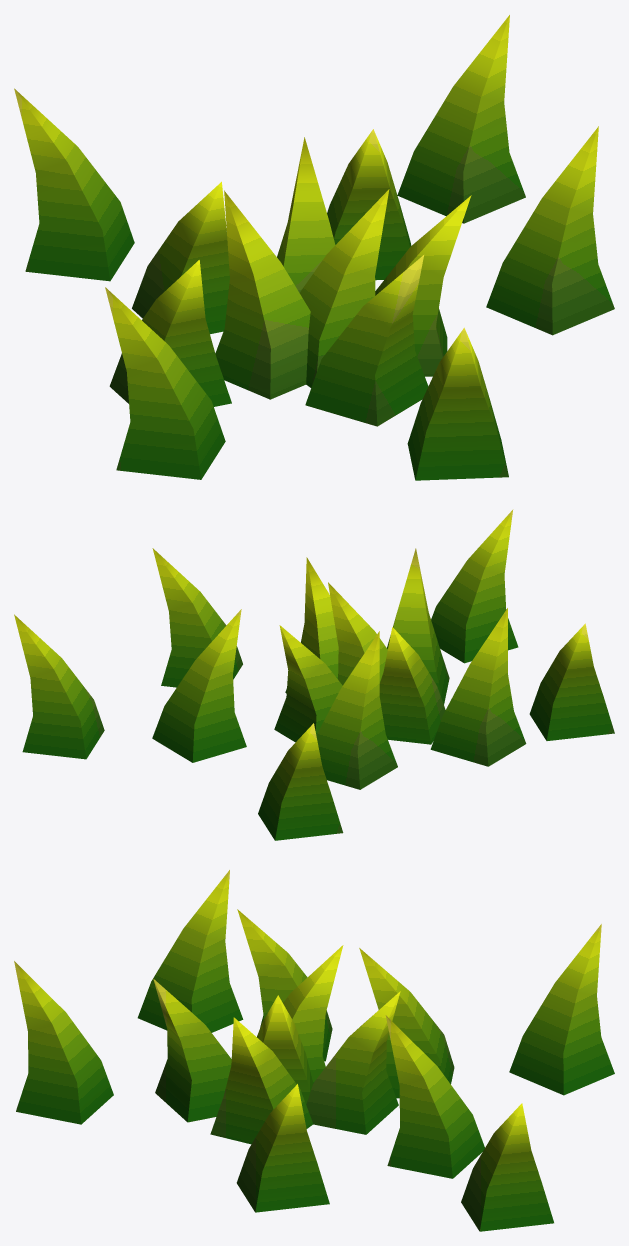
File: simple_low_poly_grass2.glb
3 renders of one model, top to bottom at view 1: azimuth 30°, elevation 25°; view 2: azimuth 150°, elevation 25°; view 3: azimuth 270°, elevation 25°, orthographic. The views are drawn at different scales.
Parts seen in each view (by area): view 1: grass2_Material #25_0; view 2: grass2_Material #25_0; view 3: grass2_Material #25_0.
Part boxes in pixels (bbox=[...]): grass2_Material #25_0: bbox=[14, 15, 614, 480]; grass2_Material #25_0: bbox=[14, 509, 614, 840]; grass2_Material #25_0: bbox=[14, 870, 614, 1231].
Size of the model in its own units: 1.82 by 0.4708 by 1.93.
1 material, 1 textured.
